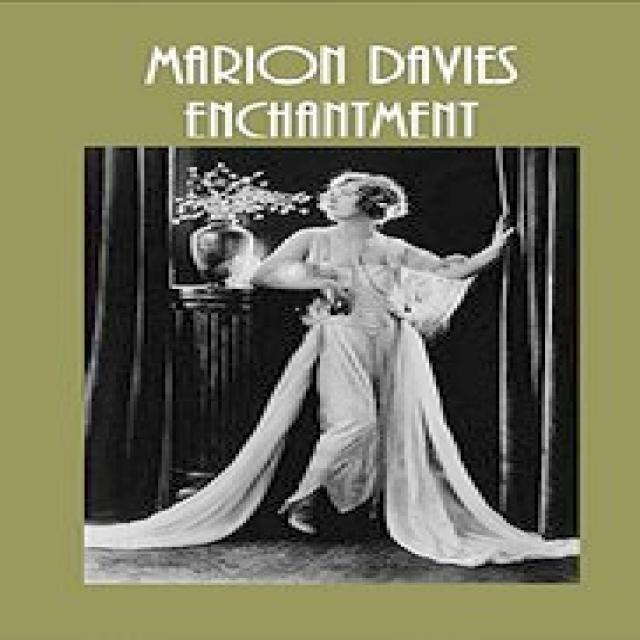movie-judul: (111, 38, 540, 135)
picture: (91, 148, 572, 578)
